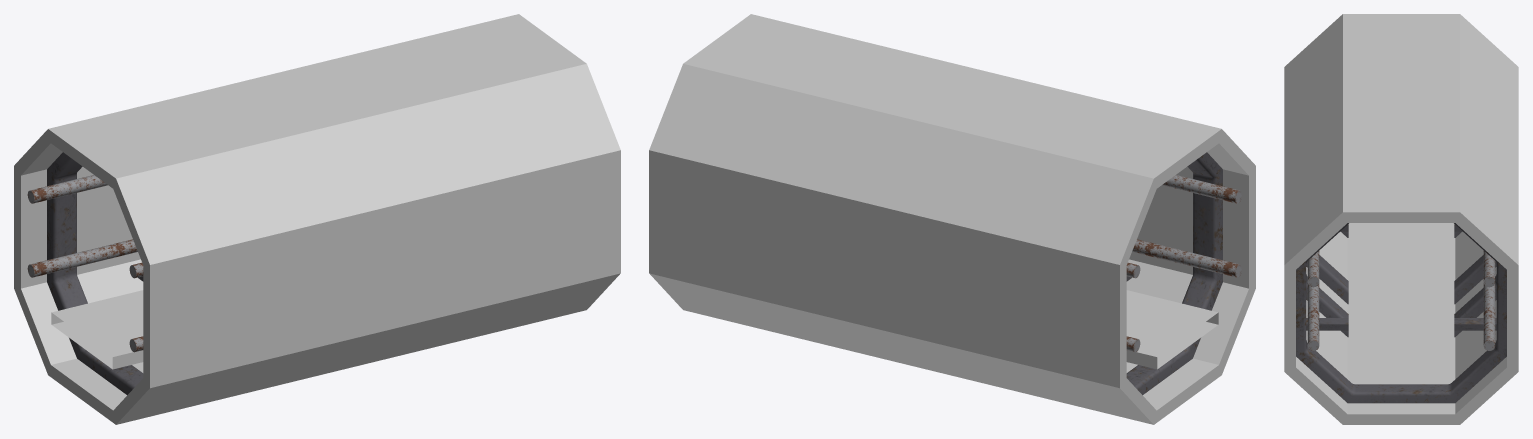
File: ProcGen_Straight.fbx
3 renders of one model, left to right at view 1: azimuth 30°, elevation 25°; view 2: azimuth 150°, elevation 25°; view 3: azimuth 270°, elevation 25°, orthographic. The views are drawn at different scales.
Visible parts, largest first — view 1: Straight_Tunnel; view 2: Straight_Tunnel; view 3: Straight_Tunnel.
Part boxes in pixels (x1=…): Straight_Tunnel: x1=14, y1=14, x2=620, y2=424; Straight_Tunnel: x1=649, y1=14, x2=1255, y2=424; Straight_Tunnel: x1=1284, y1=14, x2=1518, y2=424.
Bounding box in the file's own units: 1000 × 500 × 500.
